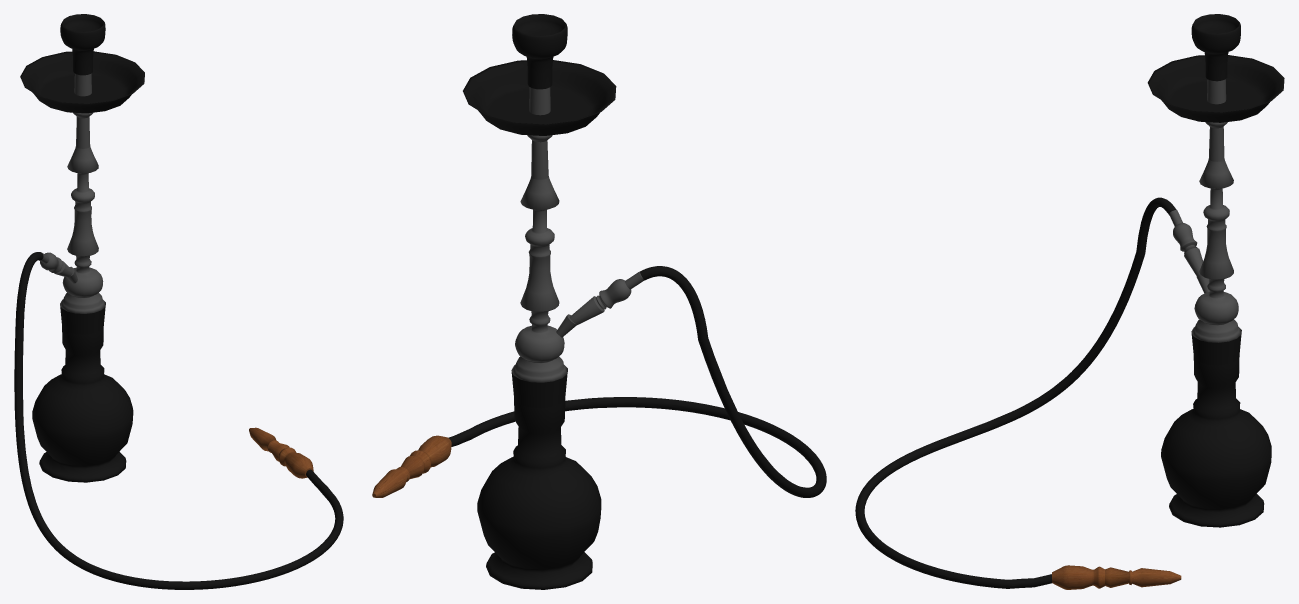
File: Hookah.fbx
3 renders of one model, left to right at view 1: azimuth 30°, elevation 25°; view 2: azimuth 150°, elevation 25°; view 3: azimuth 270°, elevation 25°, orthographic. The views are drawn at different scales.
Visible parts, largest first — view 1: Hookah, Hookah wire; view 2: Hookah, Hookah wire; view 3: Hookah, Hookah wire.
Boxes of the visible parts, x1,y1,x2,y2 form: Hookah: (20, 14, 144, 482); Hookah wire: (14, 252, 343, 589); Hookah: (463, 14, 616, 589); Hookah wire: (372, 266, 826, 497); Hookah: (1147, 14, 1284, 527); Hookah wire: (855, 197, 1202, 589).
Bounding box in the file's own units: 27.98 × 40.81 × 32.75.
